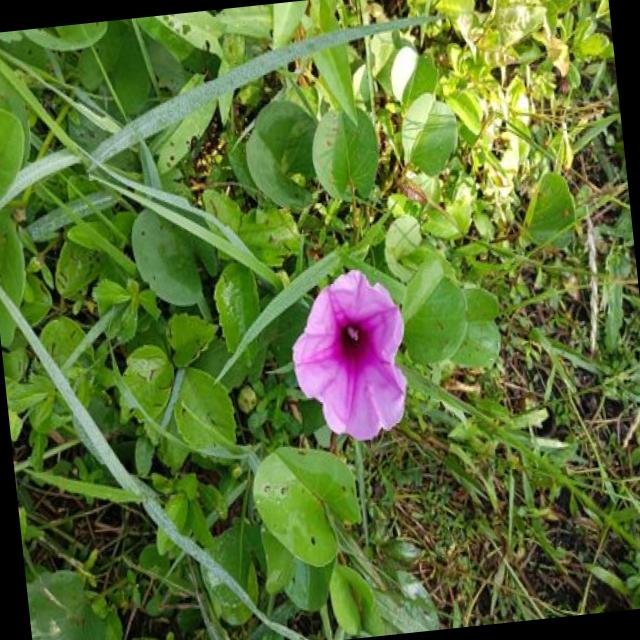ipomoea: (279, 261, 419, 452)
